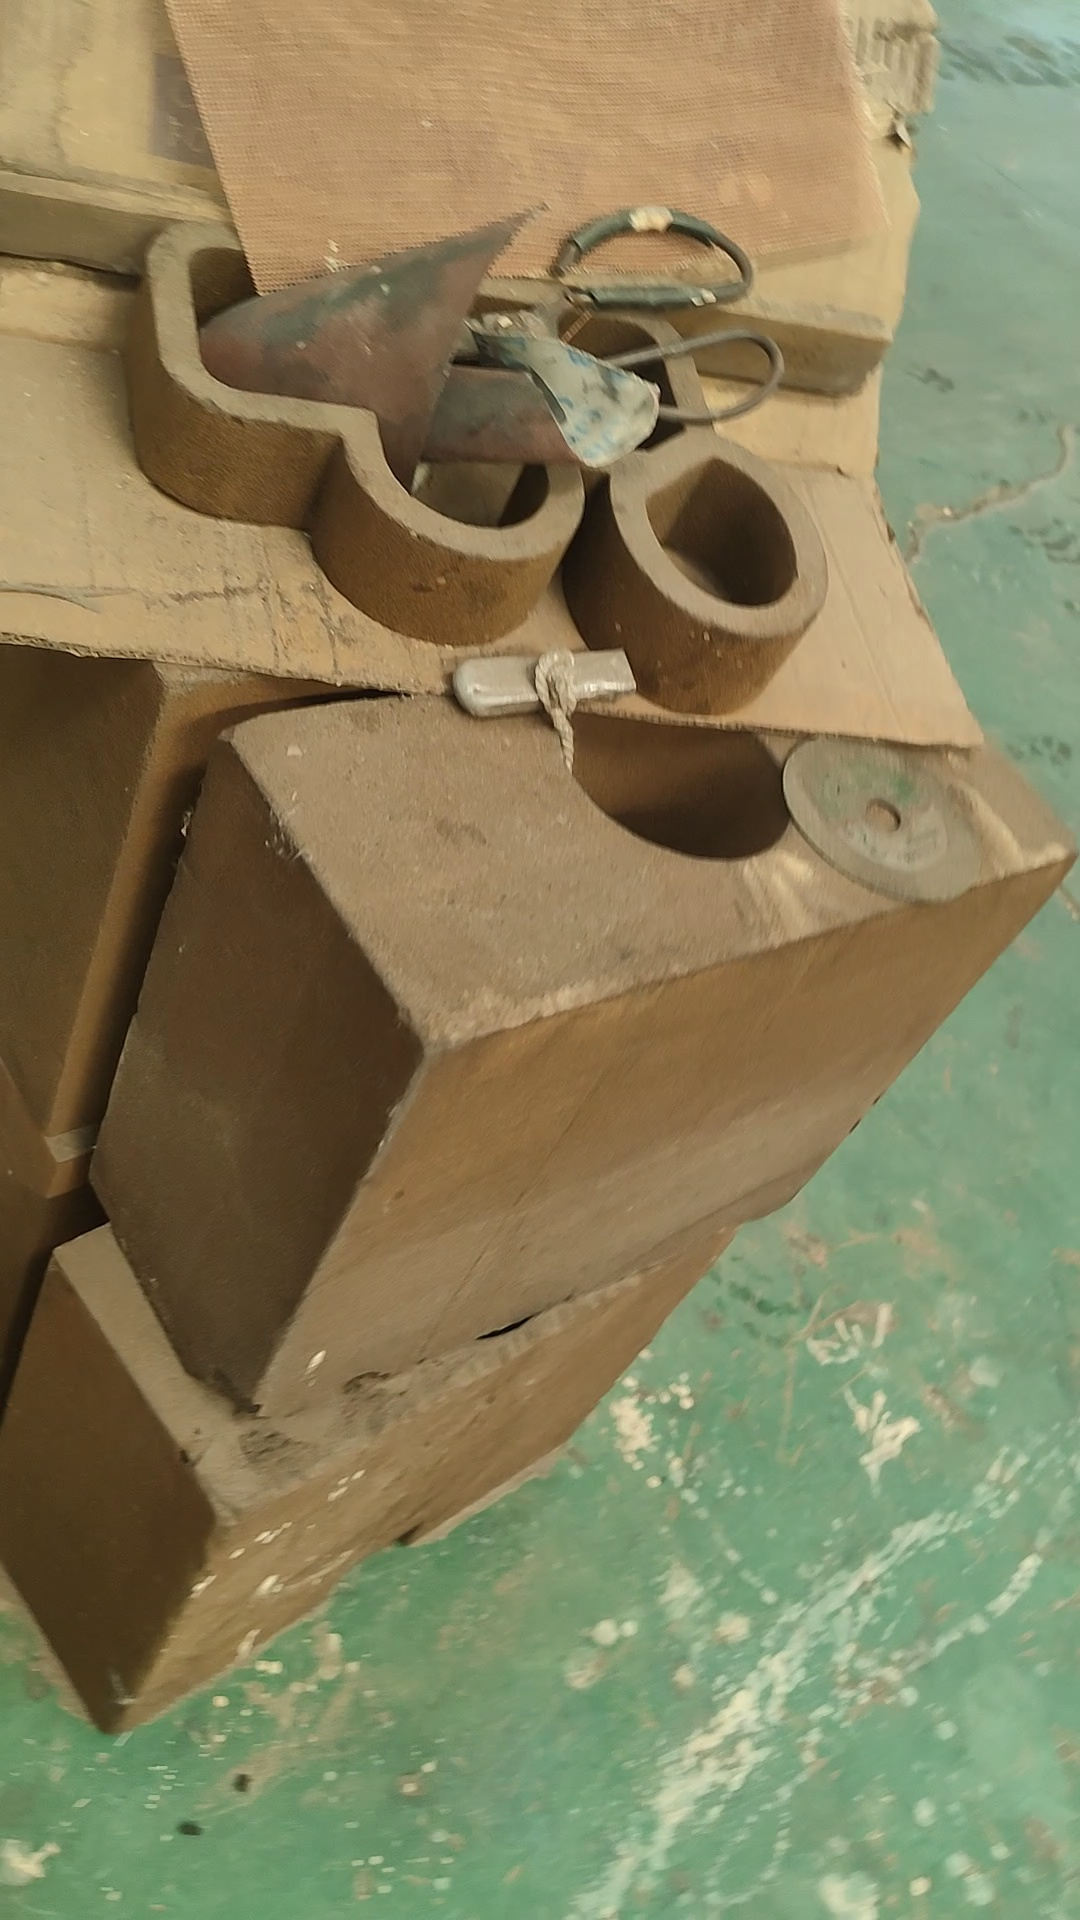pouring hole: (556, 686, 793, 862)
